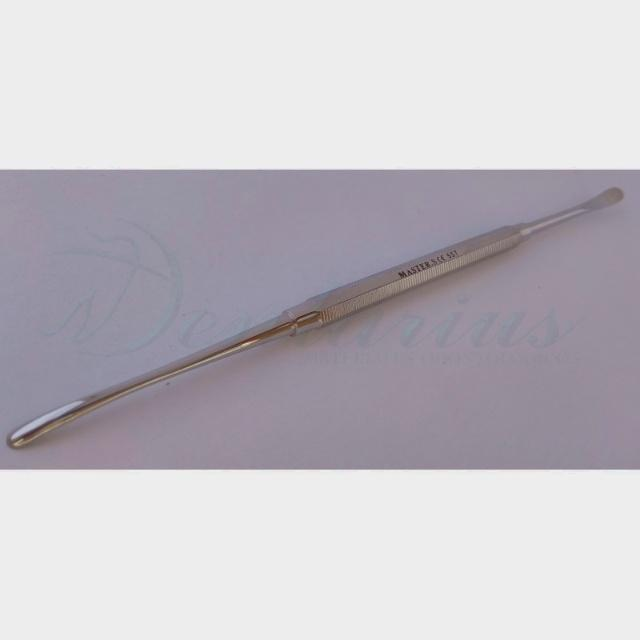elevador: (8, 191, 624, 452)
